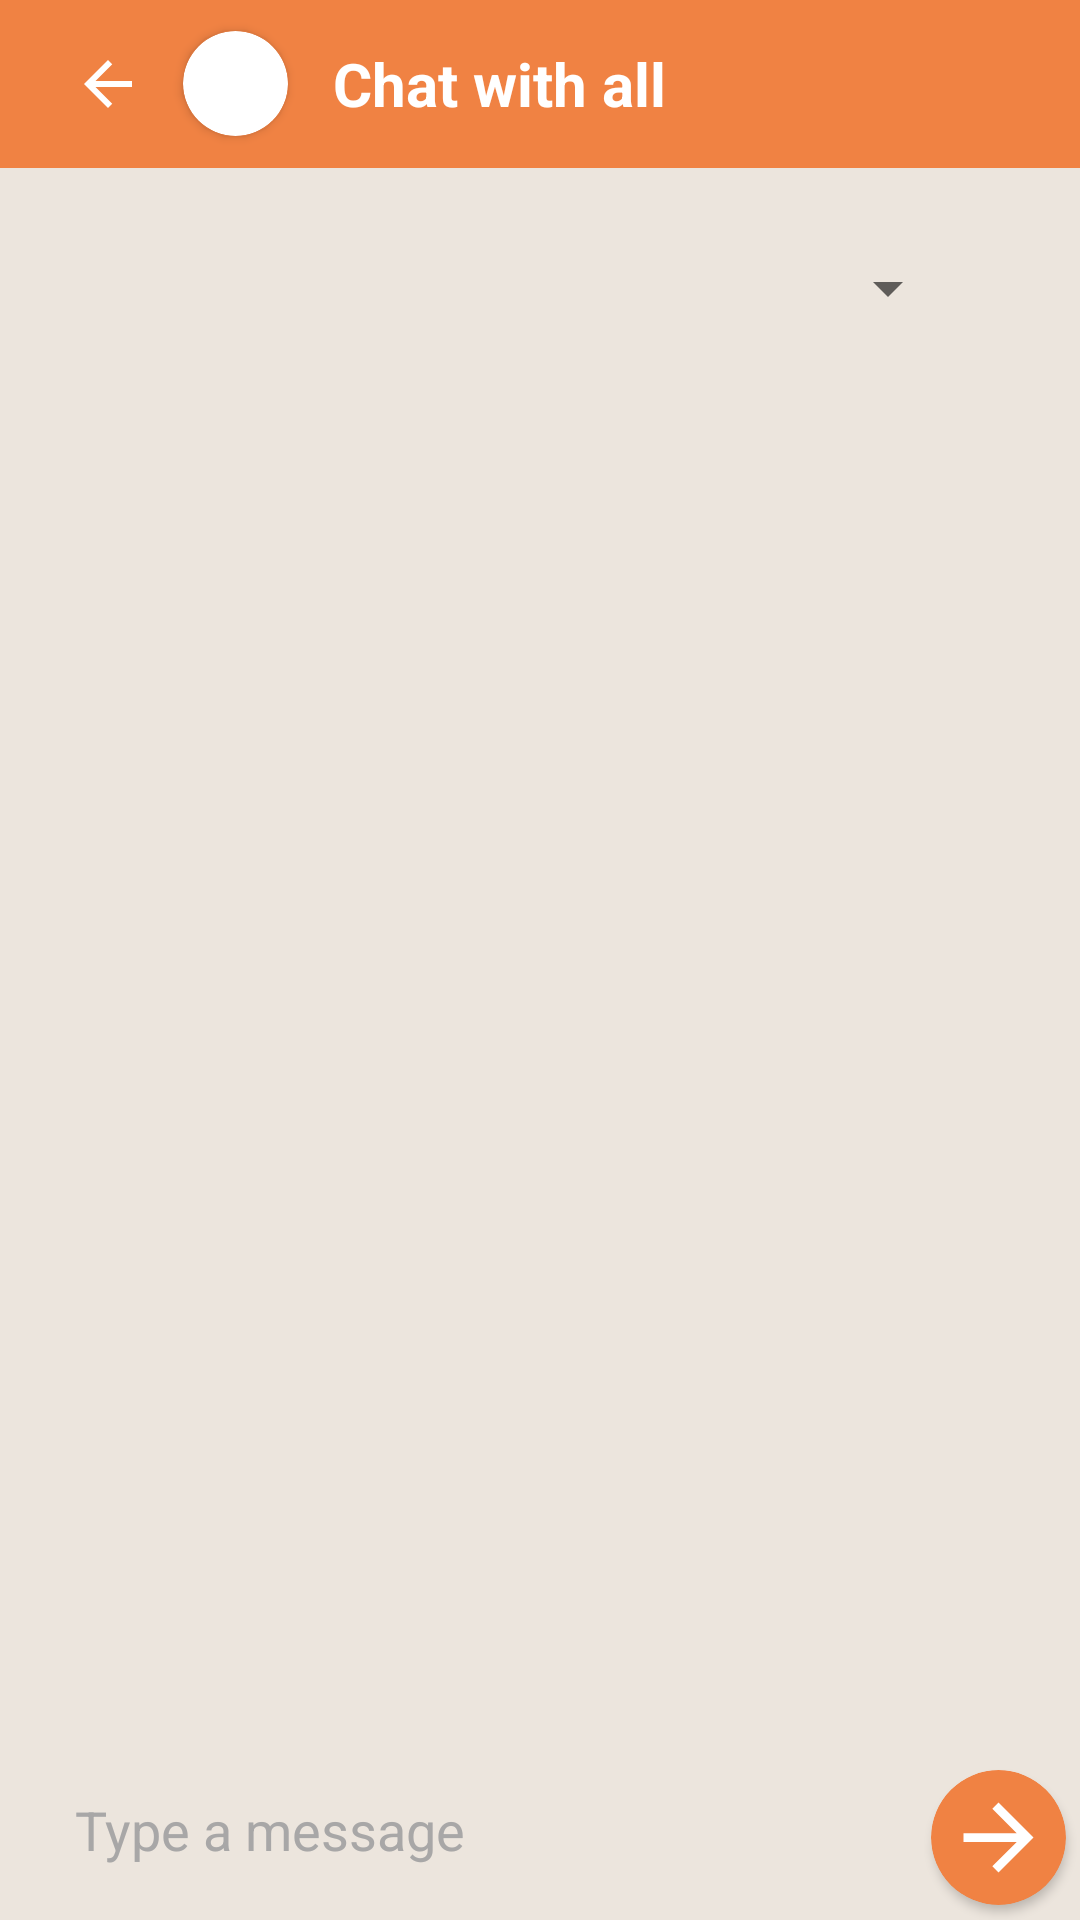

Where to tap for icons on this 1080×1920 app screen, as (x,y):
arrow back: (108,84)
arrow forward: (998,1837)
